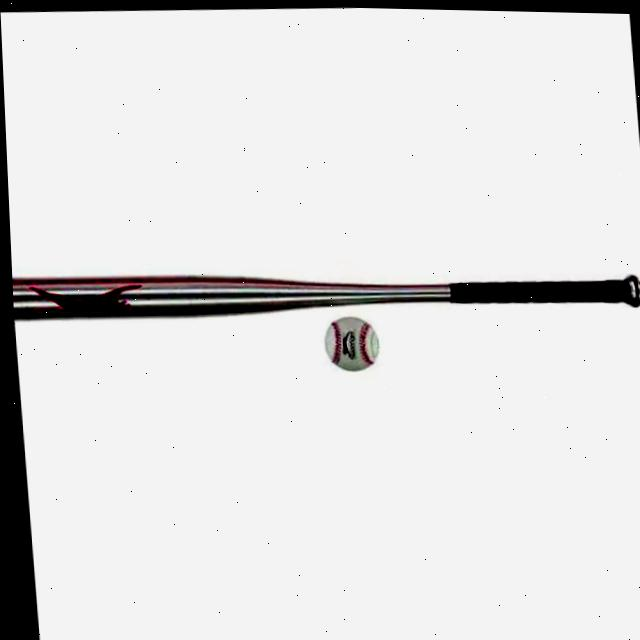baseball bat: (9, 250, 640, 330)
